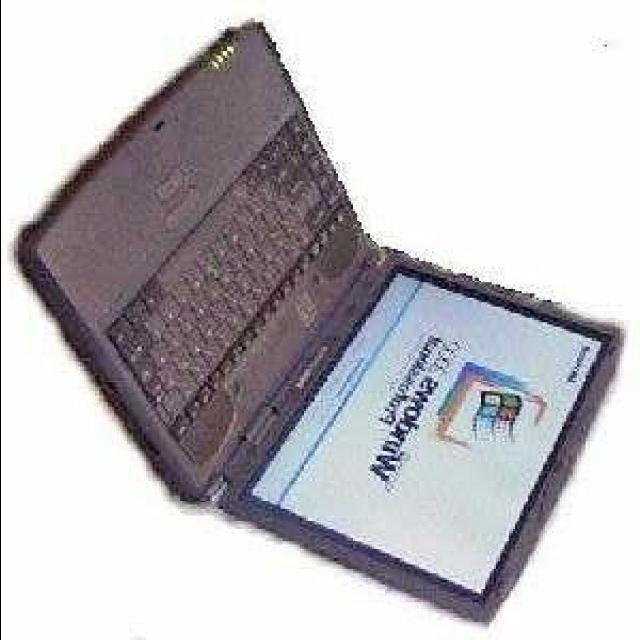-keyboard-: (6, 30, 630, 640)
